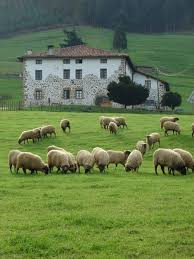sheep: (152, 148, 186, 178), (16, 152, 49, 179), (47, 148, 69, 173), (75, 148, 96, 173), (123, 148, 144, 171), (107, 148, 133, 166), (92, 145, 110, 171), (38, 122, 57, 140), (179, 148, 194, 170), (15, 129, 34, 145), (143, 131, 163, 146), (163, 121, 182, 135), (58, 117, 74, 133), (159, 115, 180, 125), (135, 138, 148, 152), (105, 121, 118, 134)
